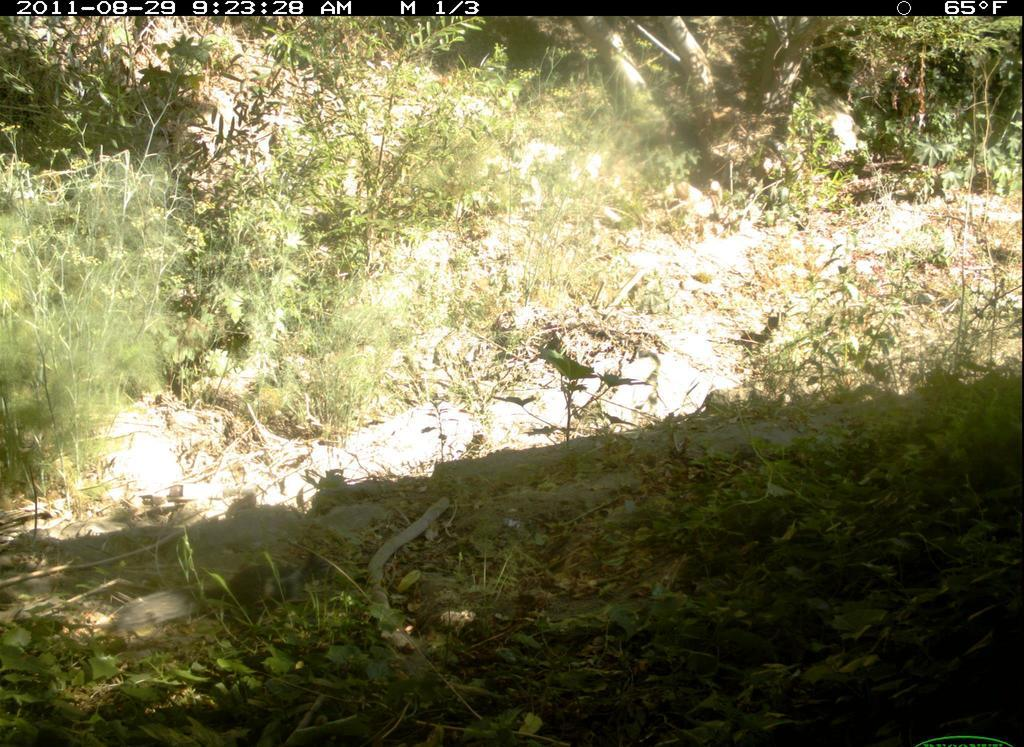squirrel: (102, 546, 345, 655)
